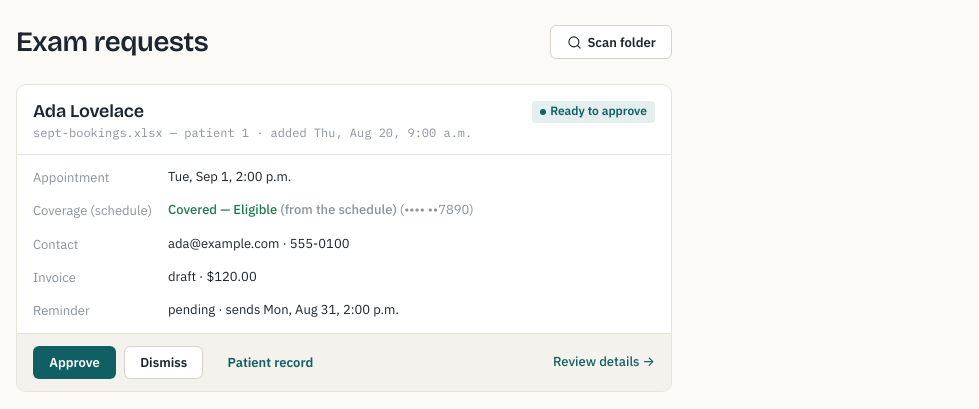
it: Inbox › dismisses a request without sending anything
Click the button "Dismiss" at (164, 362), box [124, 346, 203, 379]
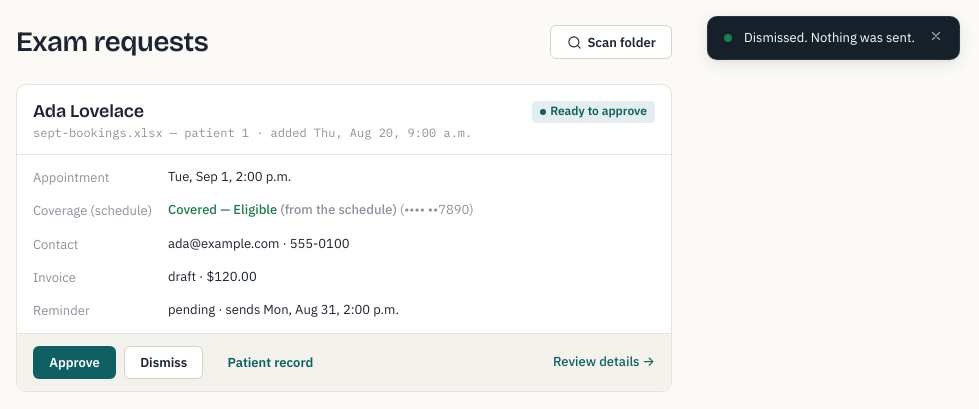
Now the text "Dismissed. Nothing was sent." is shown, box [744, 29, 915, 46]
